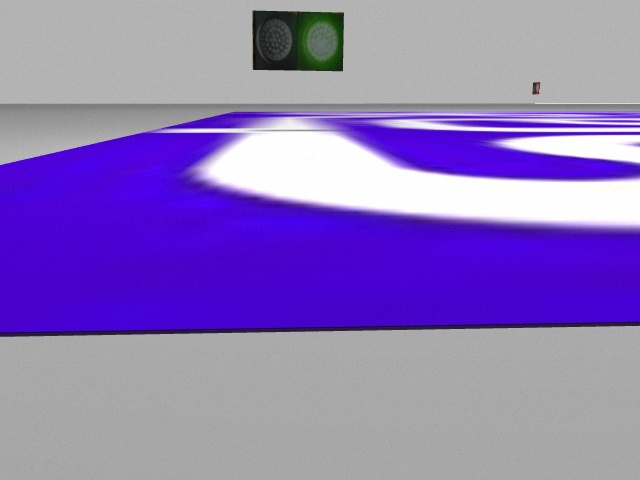green: (298, 12, 344, 68)
